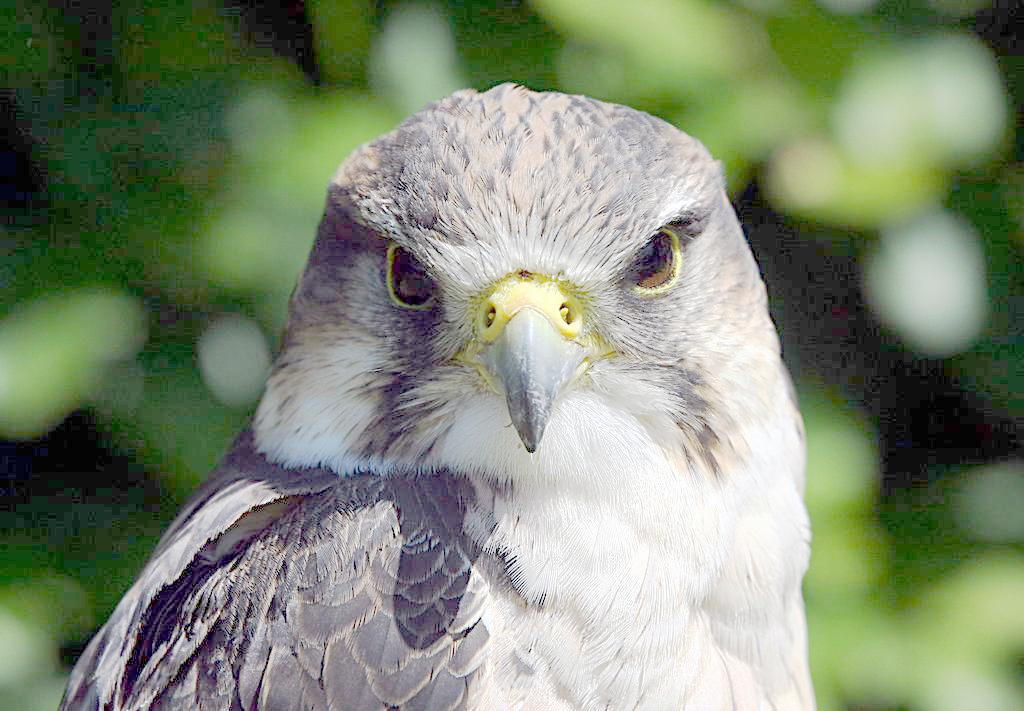Owl: (57, 82, 816, 711)
